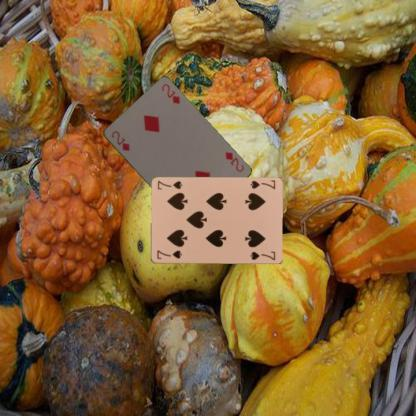2d: (222, 149, 245, 173), (108, 128, 130, 153)
7s: (154, 248, 183, 260), (248, 178, 276, 190)
